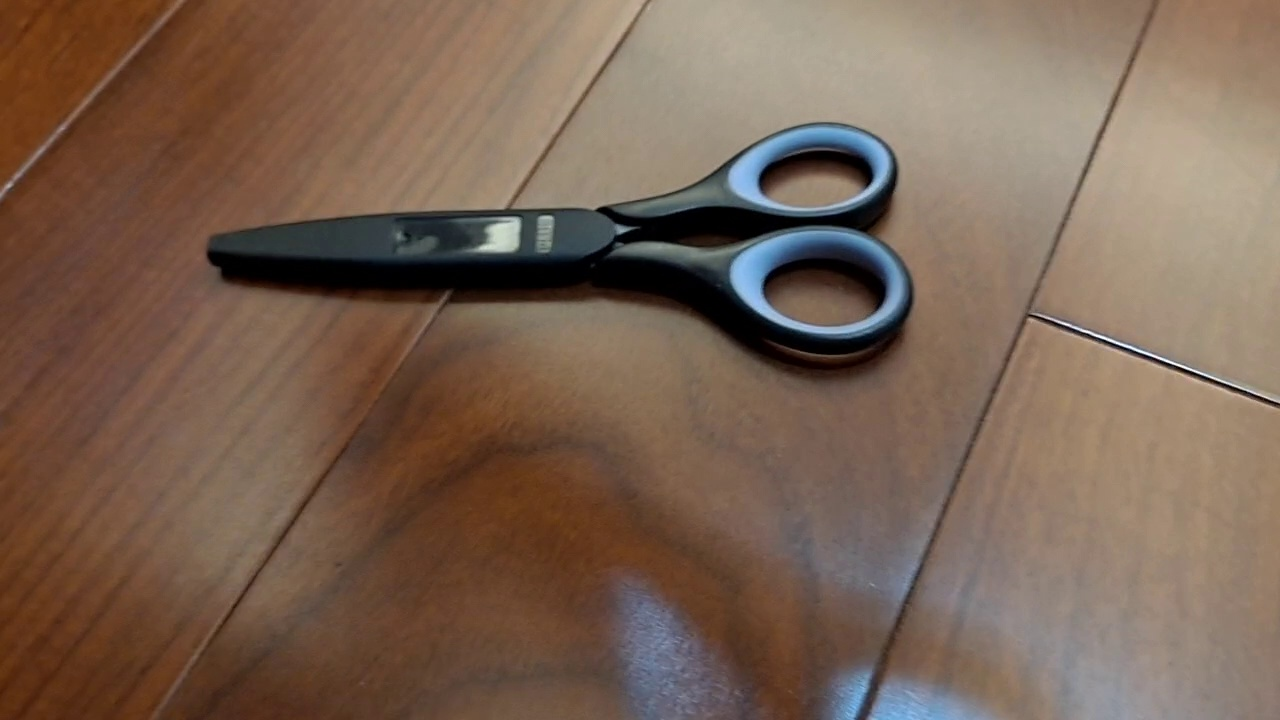scissors: (203, 119, 916, 358)
